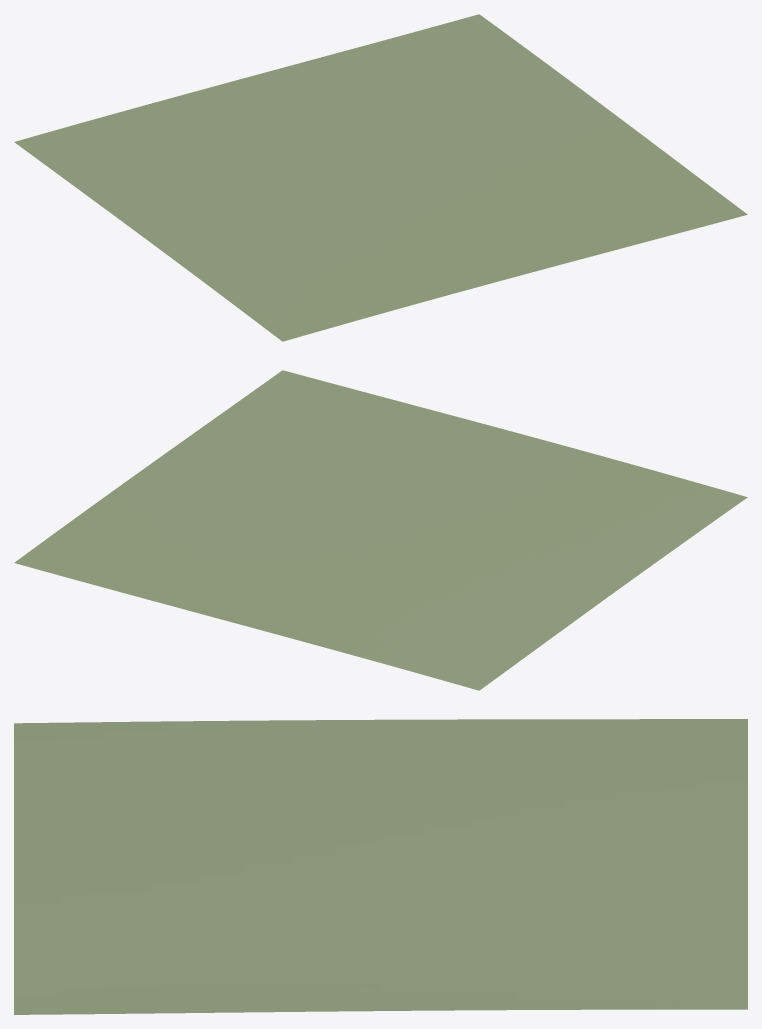
Rendered from expanse-8-5.glb.
The picture shows the model from 3 angles, top to bottom: view 1: azimuth 30°, elevation 25°; view 2: azimuth 150°, elevation 25°; view 3: azimuth 270°, elevation 25°; orthographic projection. The views are drawn at different scales.
Parts seen in each view (by area): view 1: expanse-8-5; view 2: expanse-8-5; view 3: expanse-8-5.
Part boxes in pixels (x1=…): expanse-8-5: x1=14, y1=14, x2=747, y2=341; expanse-8-5: x1=14, y1=370, x2=747, y2=690; expanse-8-5: x1=14, y1=719, x2=747, y2=1014.
Bounding box in the file's own units: 256 × 9.17 × 256.
